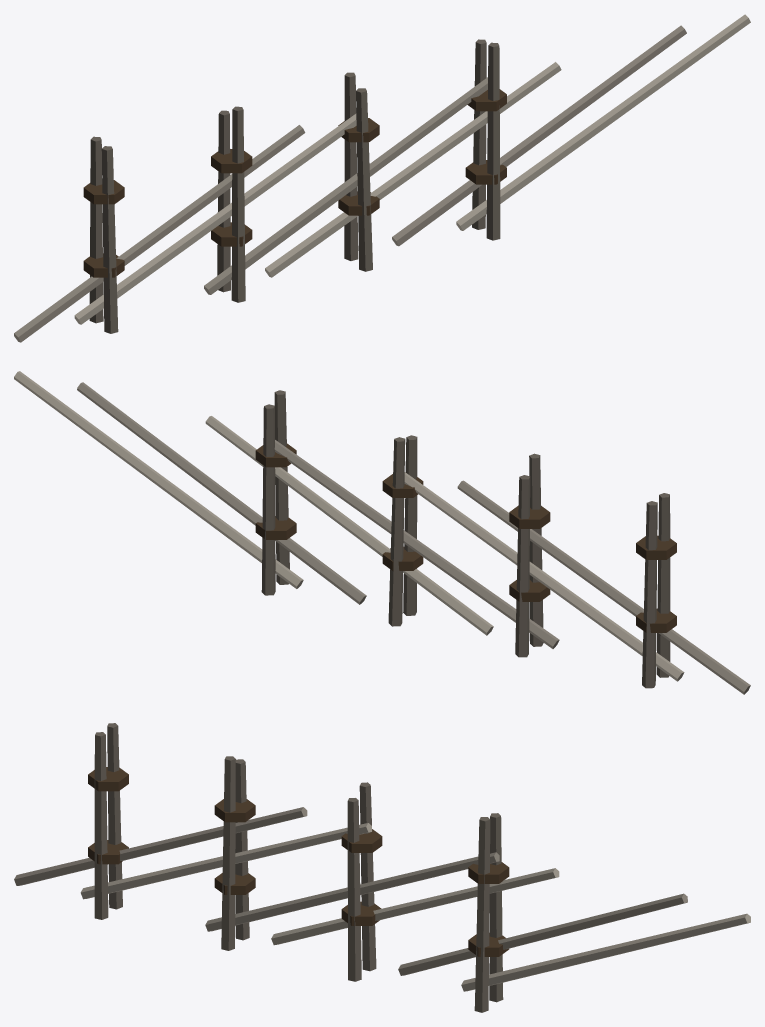
The model's file is forest_gardsgard_d.glb.
3 views of the same model, one above another, from view 1: azimuth 30°, elevation 25°; view 2: azimuth 150°, elevation 25°; view 3: azimuth 330°, elevation 25° (orthographic).
Parts seen in each view (by area): view 1: forest_gardsgard_d; view 2: forest_gardsgard_d; view 3: forest_gardsgard_d.
Boxes of the visible parts, x1,y1,x2,y2 form: forest_gardsgard_d: (14, 14, 750, 342); forest_gardsgard_d: (14, 371, 750, 694); forest_gardsgard_d: (14, 723, 750, 1012).
Bounding box in the file's own units: 5.78 × 1.44 × 0.2904.
